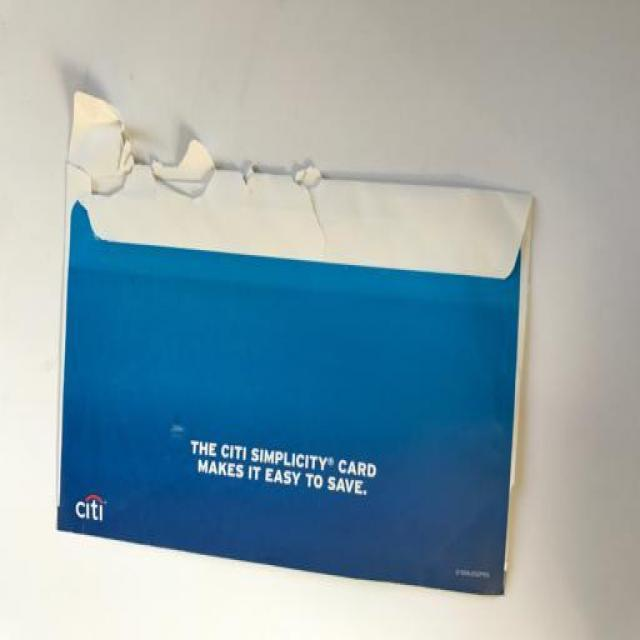paper: (50, 89, 573, 625)
